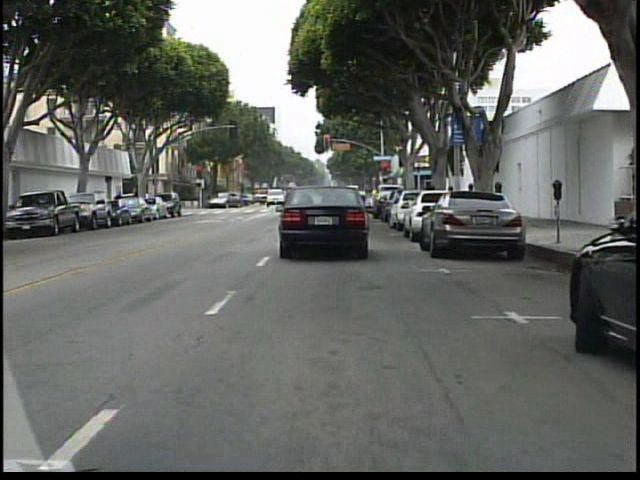person: (113, 190, 127, 218)
